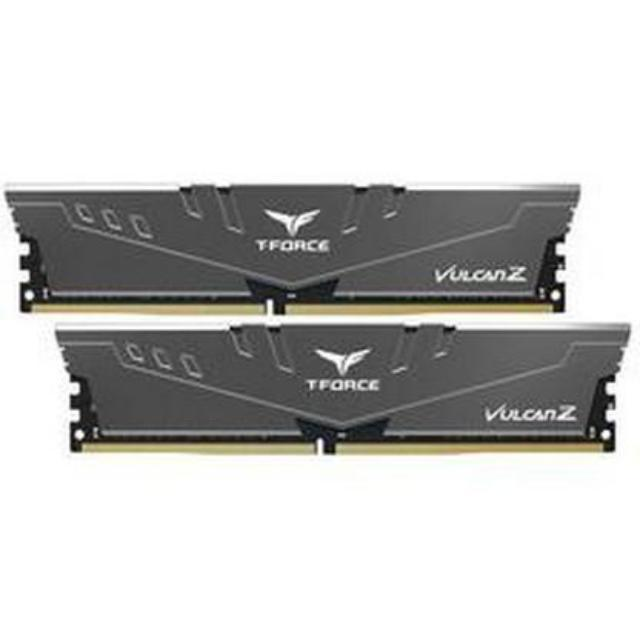RAM: (40, 322, 638, 467), (0, 174, 594, 318)
